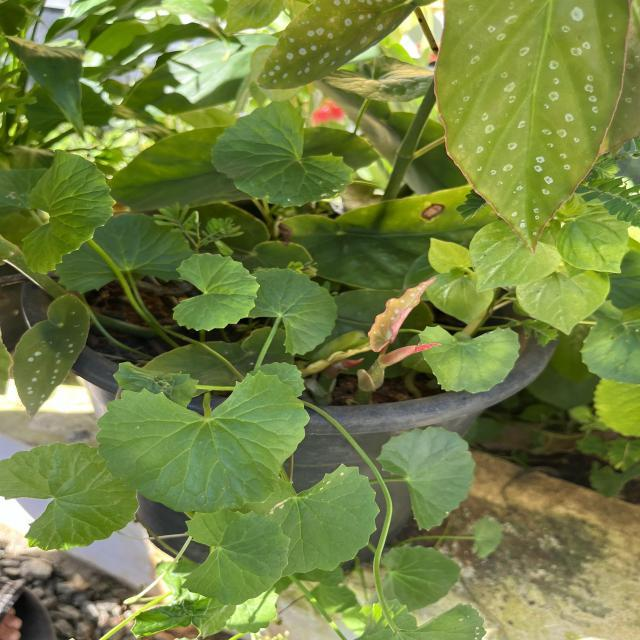Centella asiatica: (92, 366, 312, 515), (205, 96, 356, 209), (0, 440, 142, 553), (19, 147, 119, 277), (177, 503, 295, 608), (244, 264, 342, 359), (168, 250, 264, 334), (414, 324, 522, 396)
